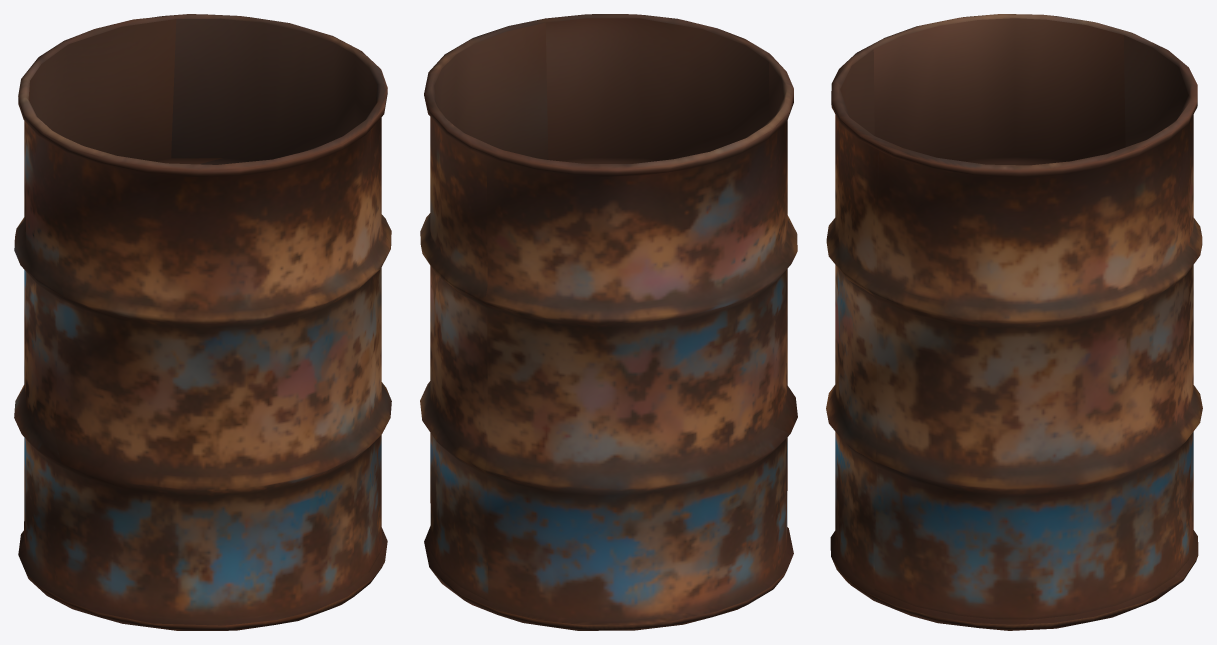
Rendered from rusty_barrel_lp_textured.glb.
3 renders of one model, left to right at view 1: azimuth 30°, elevation 25°; view 2: azimuth 150°, elevation 25°; view 3: azimuth 270°, elevation 25°, orthographic.
Visible parts, largest first — view 1: texture_pbr_v128.001; view 2: texture_pbr_v128.001; view 3: texture_pbr_v128.001.
Boxes of the visible parts, left/top/right/bottom form: texture_pbr_v128.001: left=14, top=14, right=391, bottom=630; texture_pbr_v128.001: left=420, top=14, right=797, bottom=630; texture_pbr_v128.001: left=826, top=14, right=1202, bottom=630.
Bounding box in the file's own units: 0.7276 × 0.9826 × 0.722.
1 material, 1 textured.
